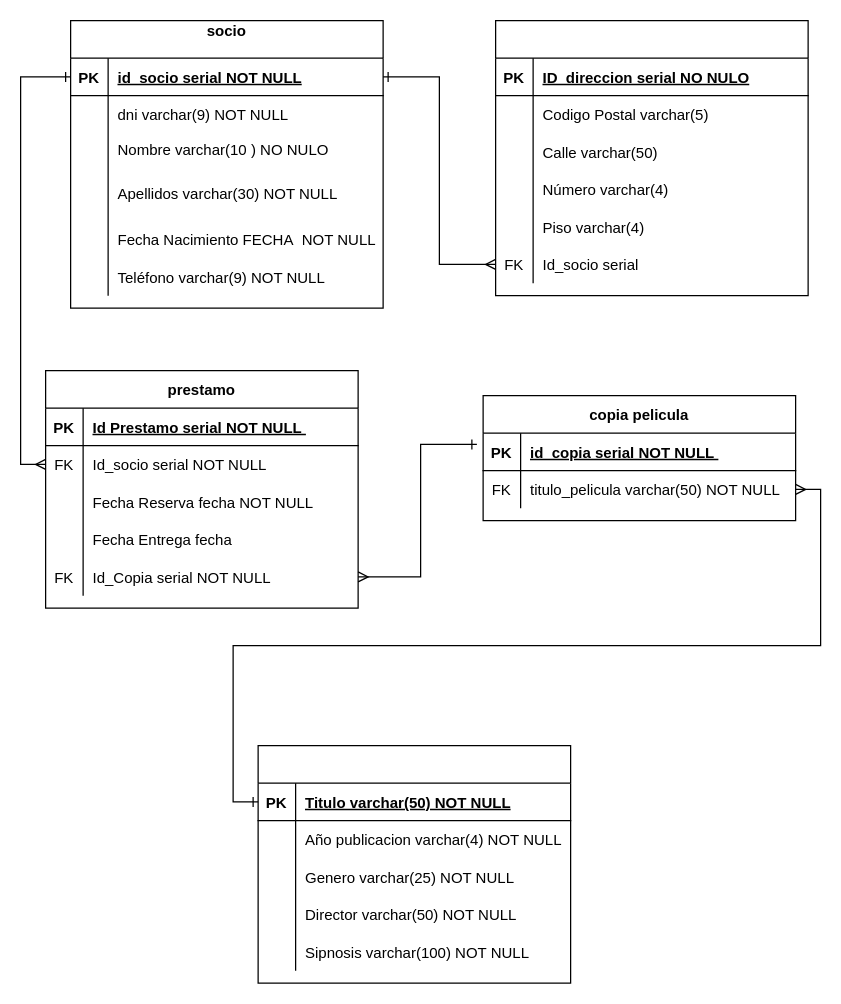
Some shapes in this 841 by 1004 pixel diagram are drawn without their labels. The box of each missing label's shape, as (x1, y1, x2, y2) in pixels:
direccion de correspondencia: (494, 19, 808, 296)
pelicula: (257, 744, 571, 983)
